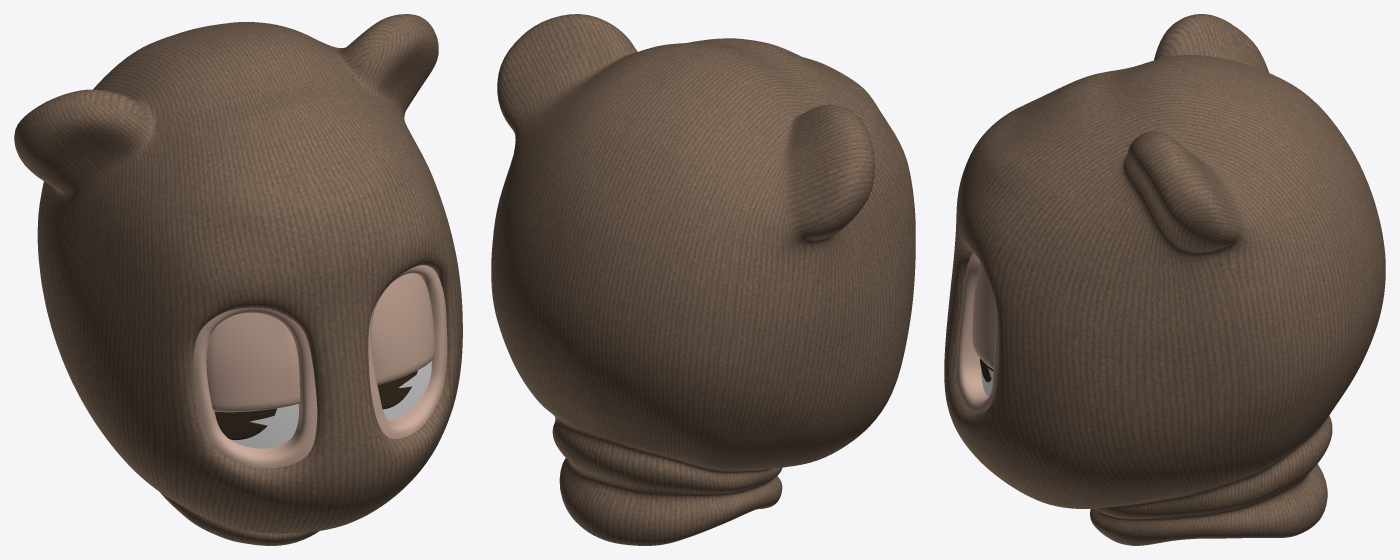
The picture shows the model from 3 angles, left to right: view 1: azimuth 30°, elevation 25°; view 2: azimuth 150°, elevation 25°; view 3: azimuth 270°, elevation 25°; orthographic projection. The views are drawn at different scales.
Visible parts, largest first — view 1: Balaclava_Base0917.008, Face.006, Eyelid_right.006, Eyelid_left.006, Sclera.008, Fleischer_eyes_right__flat_1216, Fleischer_eyes_left_flat1216; view 2: Balaclava_Base0917.008; view 3: Balaclava_Base0917.008, Face.006, Eyelid_left.006.
Part boxes in pixels (bbox=[...]): Balaclava_Base0917.008: bbox=[14, 14, 462, 545]; Face.006: bbox=[193, 265, 447, 468]; Eyelid_right.006: bbox=[206, 313, 299, 412]; Eyelid_left.006: bbox=[371, 273, 434, 384]; Sclera.008: bbox=[230, 361, 431, 448]; Fleischer_eyes_right__flat_1216: bbox=[214, 408, 276, 439]; Fleischer_eyes_left_flat1216: bbox=[377, 370, 417, 409]; Balaclava_Base0917.008: bbox=[491, 14, 915, 545]; Balaclava_Base0917.008: bbox=[944, 14, 1385, 545]; Face.006: bbox=[955, 252, 998, 412]; Eyelid_left.006: bbox=[972, 263, 996, 369].
Size of the model in its own units: 0.8557 by 0.9973 by 0.8722.
3 materials, 1 textured.
